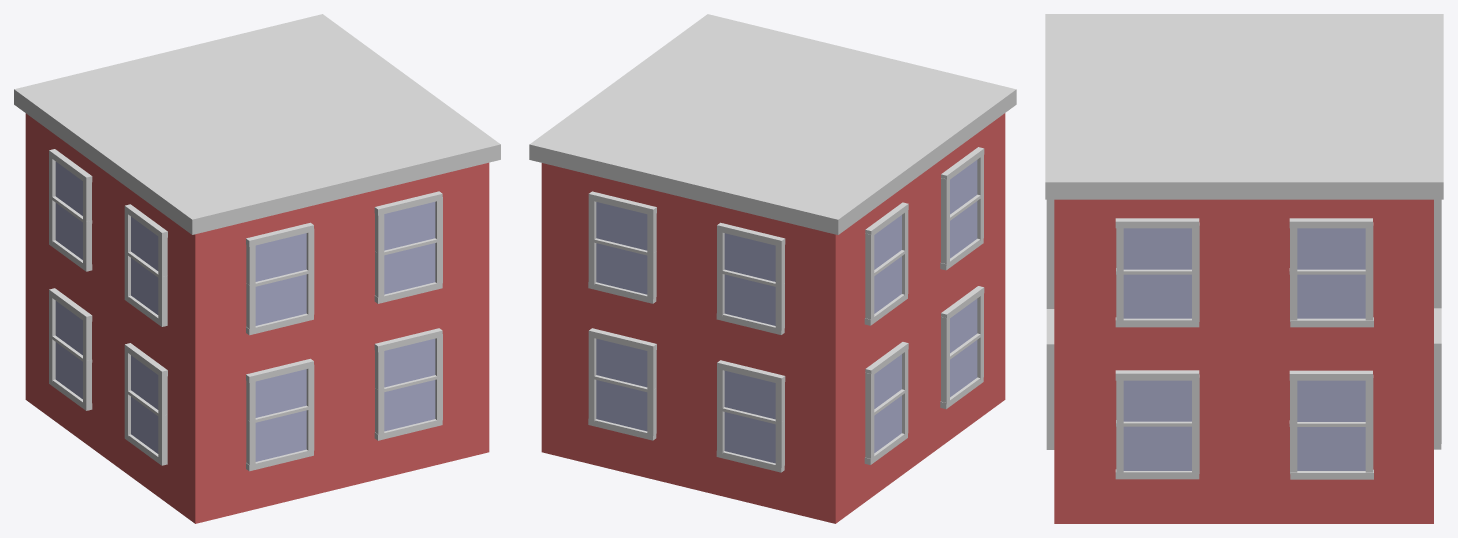
The model's file is shopmid.glb.
3 views of the same model, side by side, from view 1: azimuth 30°, elevation 25°; view 2: azimuth 150°, elevation 25°; view 3: azimuth 270°, elevation 25° (orthographic). The views are drawn at different scales.
Parts seen in each view (by area): view 1: Cube, Cube.001, Cube.025, Cube.022, Cube.009, Cube.010, Cube.023, Cube.013, Cube.024, Cube.006, Cube.033, Cube.029 (+6 smaller); view 2: Cube, Cube.001, Cube.011, Cube.020, Cube.012, Cube.015, Cube.017, Cube.019, Cube.018, Cube.021, Cube.027, Cube.031 (+6 smaller); view 3: Cube, Cube.001, Cube.003, Cube.002, Cube.004, Cube.007, Cube.016, Cube.014, Cube.008, Cube.005, Cube.024, Cube.019 (+2 smaller).
Boxes of the visible parts, x1,y1,x2,y2 form: Cube: [25, 113, 489, 523]; Cube.001: [14, 14, 500, 234]; Cube.025: [384, 338, 435, 431]; Cube.022: [255, 369, 306, 461]; Cube.009: [384, 202, 435, 294]; Cube.010: [255, 233, 306, 325]; Cube.023: [246, 358, 314, 471]; Cube.013: [246, 222, 314, 335]; Cube.024: [374, 328, 442, 440]; Cube.006: [374, 191, 442, 303]; Cube.033: [124, 343, 167, 465]; Cube.029: [124, 204, 167, 326]; Cube: [541, 113, 1005, 523]; Cube.001: [529, 14, 1016, 234]; Cube.011: [596, 202, 647, 294]; Cube.020: [724, 371, 775, 463]; Cube.012: [724, 233, 775, 325]; Cube.015: [596, 338, 647, 431]; Cube.017: [588, 191, 656, 303]; Cube.019: [588, 328, 656, 440]; Cube.018: [716, 222, 785, 334]; Cube.021: [716, 360, 785, 472]; Cube.027: [864, 202, 908, 325]; Cube.031: [864, 342, 908, 464]; Cube: [1054, 199, 1433, 523]; Cube.001: [1045, 14, 1443, 199]; Cube.003: [1297, 228, 1365, 318]; Cube.002: [1123, 228, 1191, 318]; Cube.004: [1123, 380, 1191, 470]; Cube.007: [1297, 380, 1365, 470]; Cube.016: [1289, 218, 1373, 327]; Cube.014: [1115, 218, 1199, 327]; Cube.008: [1289, 370, 1373, 479]; Cube.005: [1115, 370, 1199, 479]; Cube.024: [1046, 309, 1054, 449]; Cube.019: [1434, 308, 1441, 449].
Size of the model in its own units: 2.1 by 2.01 by 2.1.
